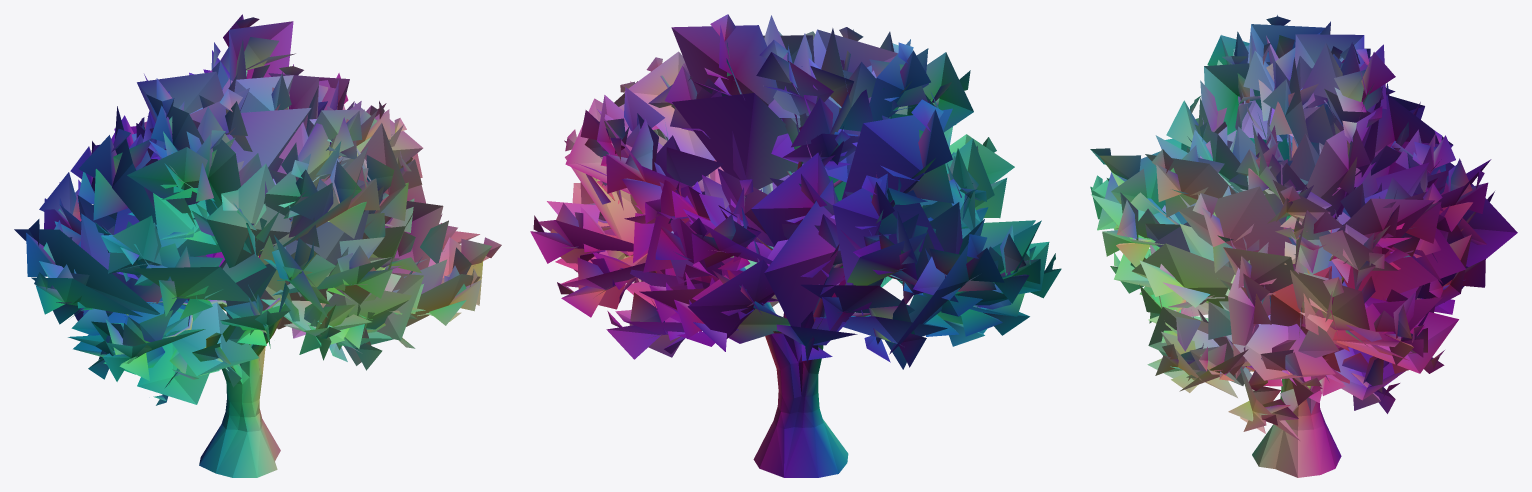
The picture shows the model from 3 angles, left to right: view 1: azimuth 30°, elevation 25°; view 2: azimuth 150°, elevation 25°; view 3: azimuth 270°, elevation 25°; orthographic projection. The views are drawn at different scales.
Visible parts, largest first — view 1: SM_TR_Juniper_8m_LOD0; view 2: SM_TR_Juniper_8m_LOD0; view 3: SM_TR_Juniper_8m_LOD0.
Boxes of the visible parts, x1,y1,x2,y2 form: SM_TR_Juniper_8m_LOD0: (14,14,501,477); SM_TR_Juniper_8m_LOD0: (530,14,1061,477); SM_TR_Juniper_8m_LOD0: (1090,15,1517,477).
Size of the model in its own units: 1029 by 938 by 849.
